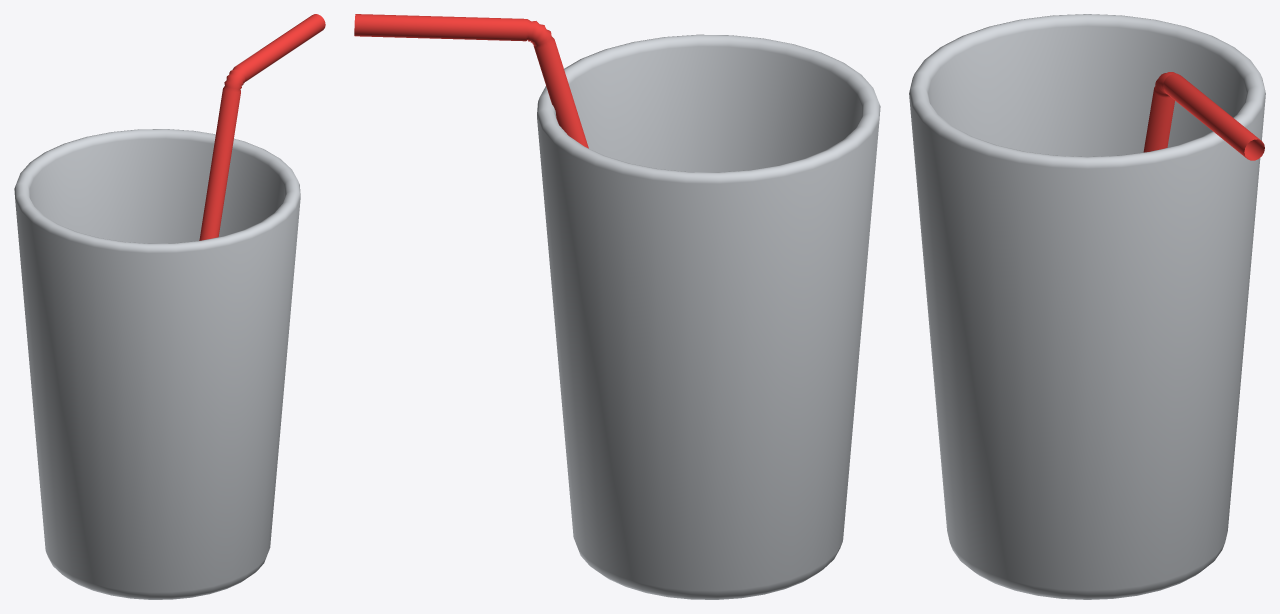
Rendered from cup_with_straw.glb.
3 views of the same model, side by side, from view 1: azimuth 30°, elevation 25°; view 2: azimuth 150°, elevation 25°; view 3: azimuth 270°, elevation 25° (orthographic). The views are drawn at different scales.
Visible parts, largest first — view 1: Circle.2290; view 2: Circle.2290; view 3: Circle.2290.
Part boxes in pixels (box(x1,y1,x2,y2)): Circle.2290: box(14, 14, 325, 599); Circle.2290: box(354, 14, 880, 599); Circle.2290: box(909, 14, 1265, 599).
Bounding box in the file's own units: 1.69 × 1.99 × 1.18.
2 materials, 1 textured.
